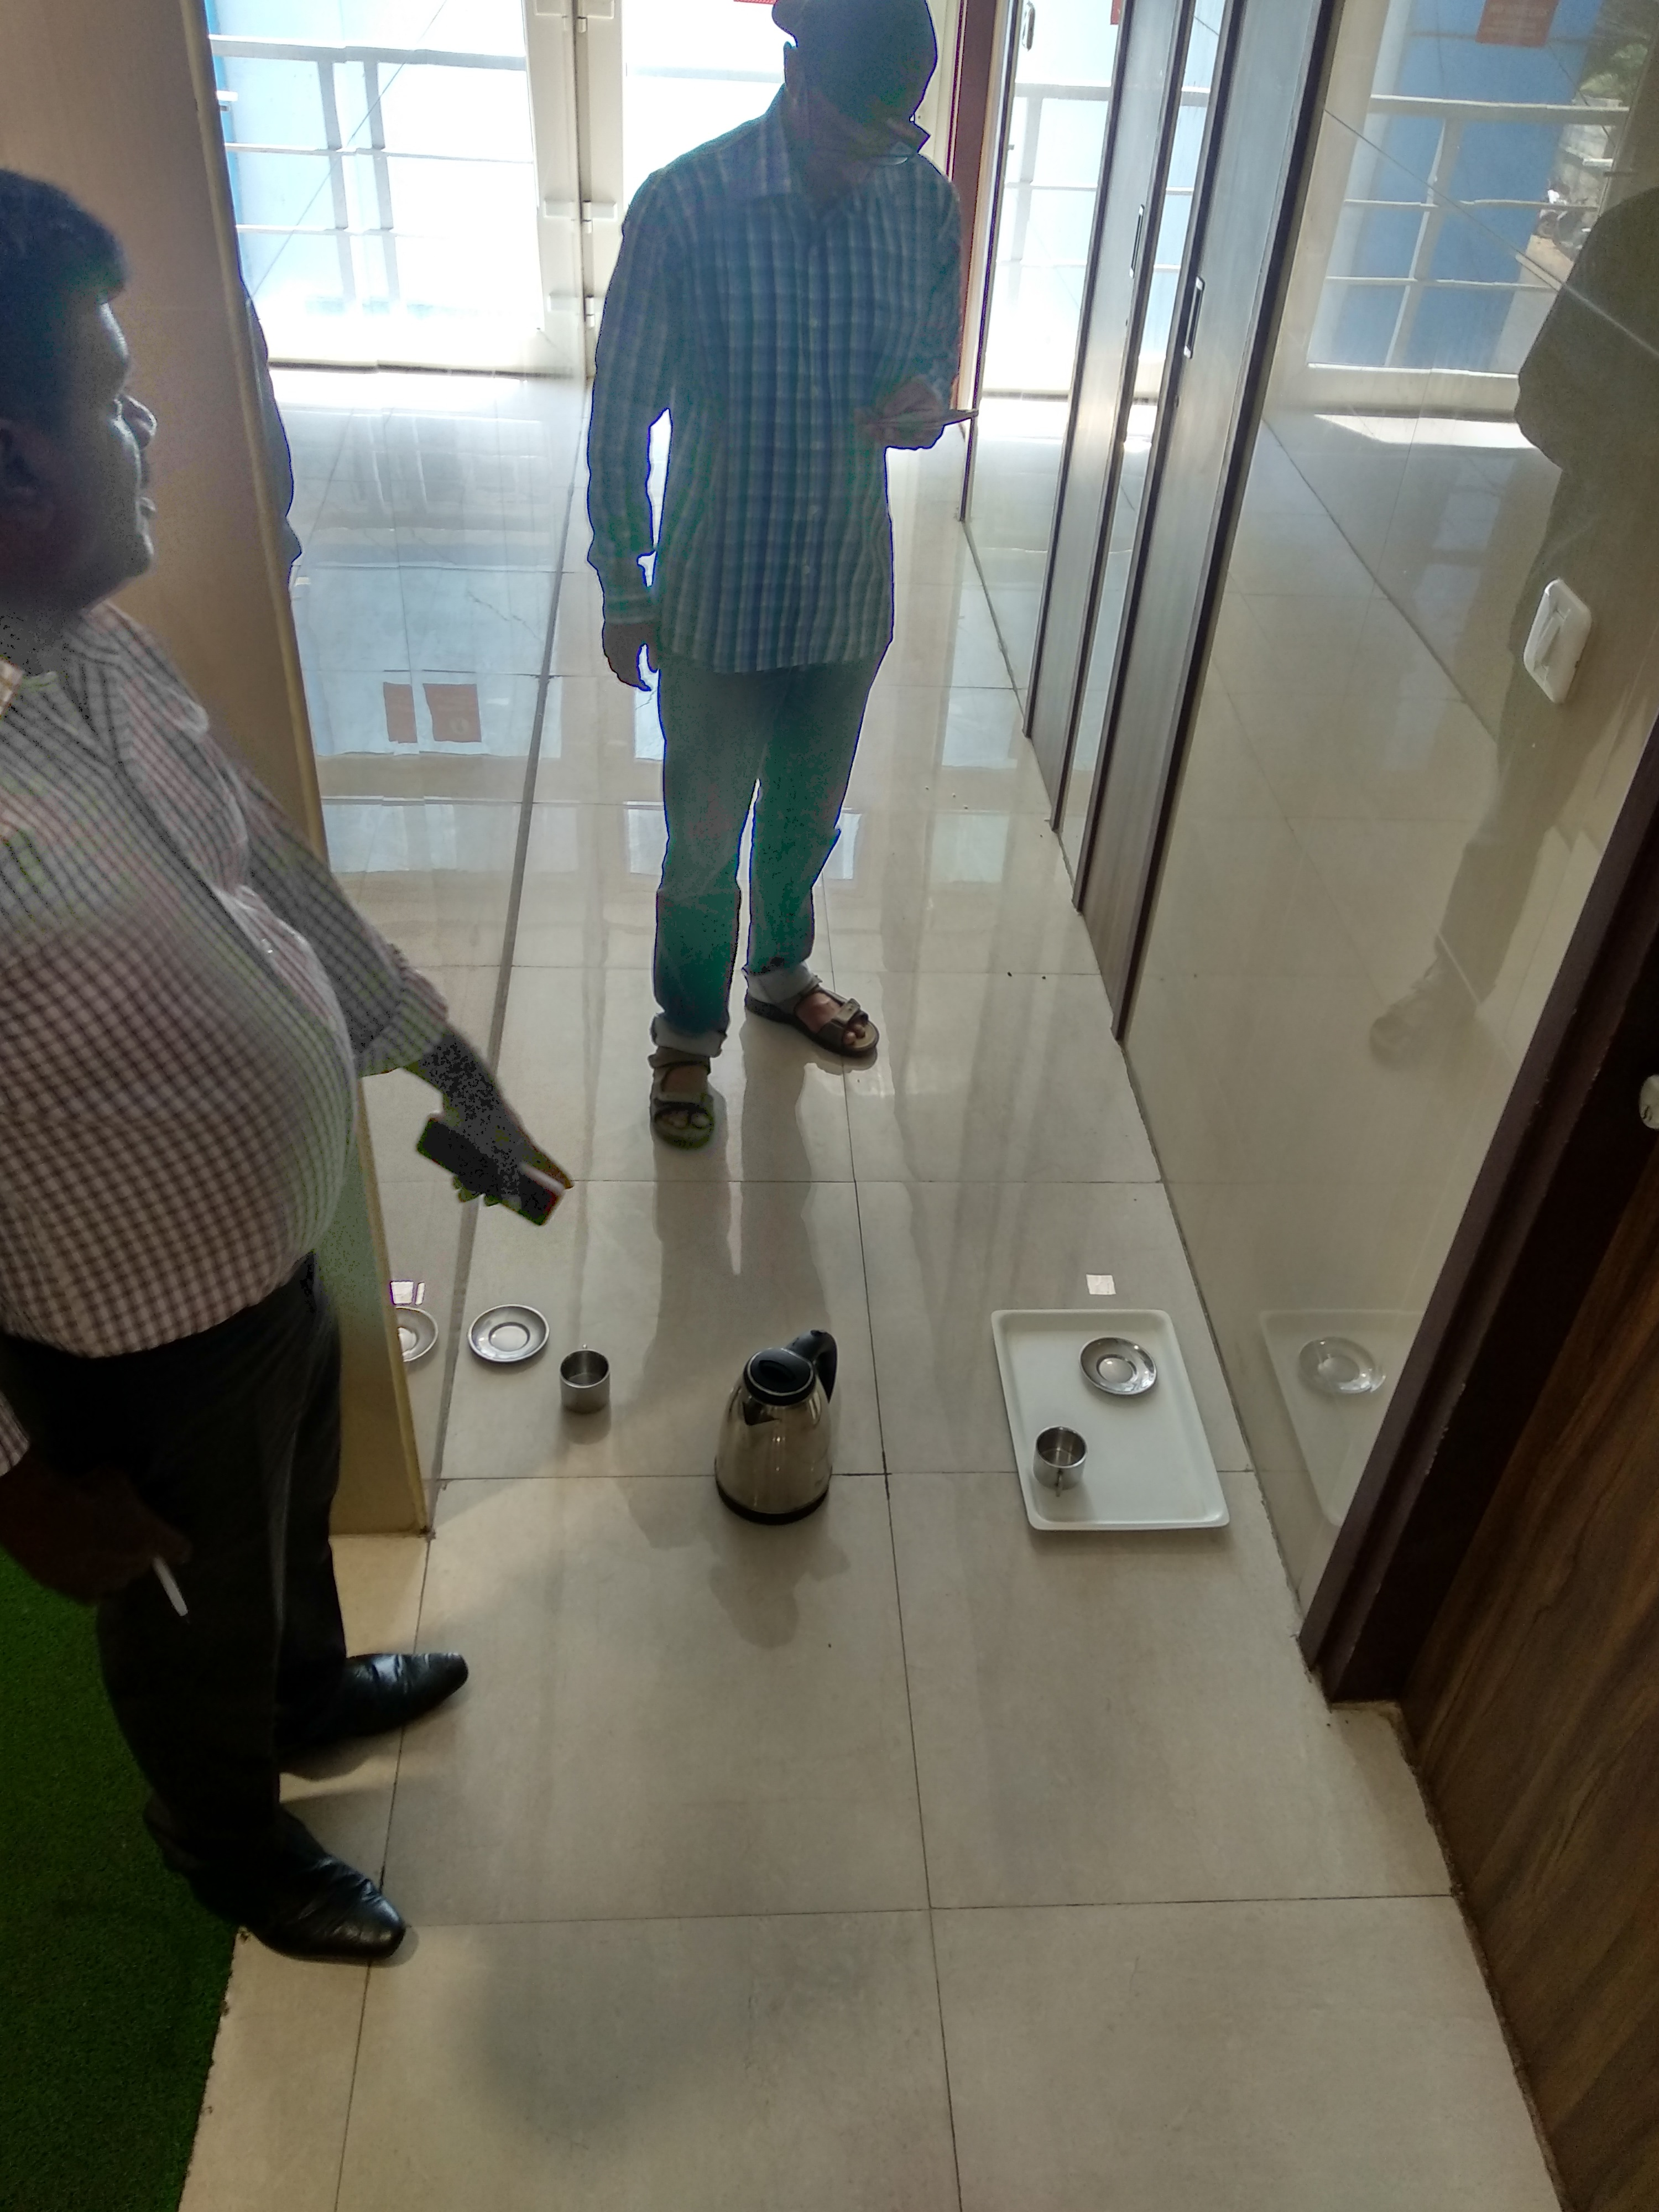CUP: (556, 1352, 622, 1416), (1035, 1426, 1089, 1493)
FLASK: (701, 1329, 852, 1527)
